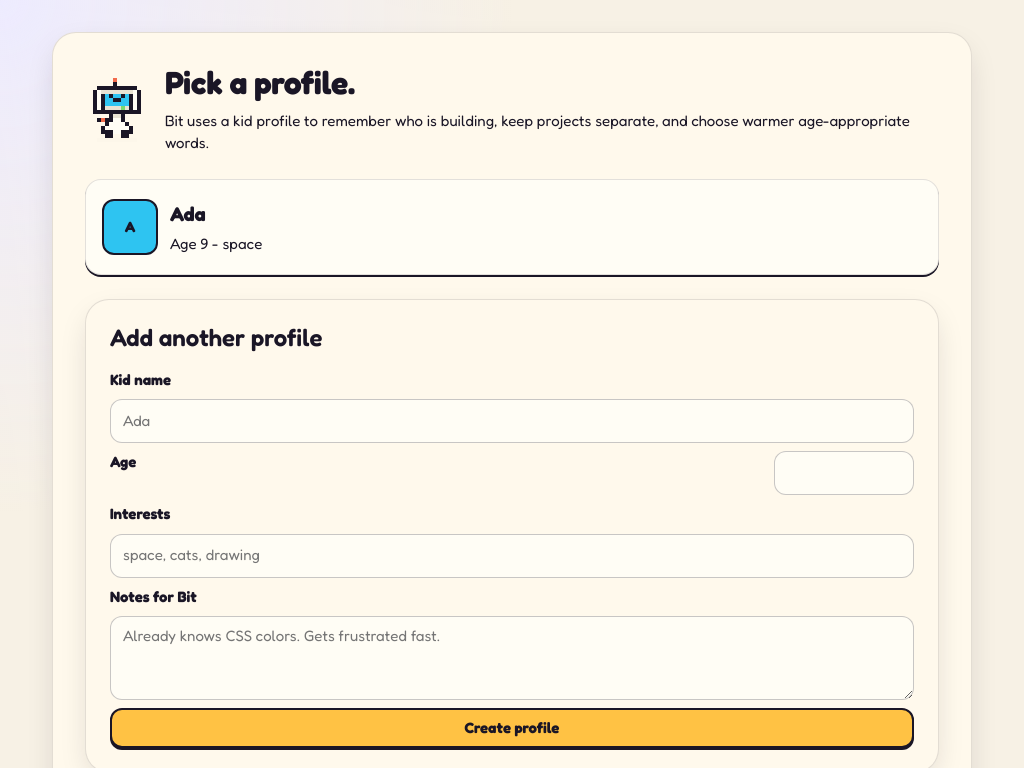
Test: App › opens chat after selecting a kid
Click the button "A Ada Age 9 - space" at (130, 227), box left=85, top=179, right=939, bottom=275
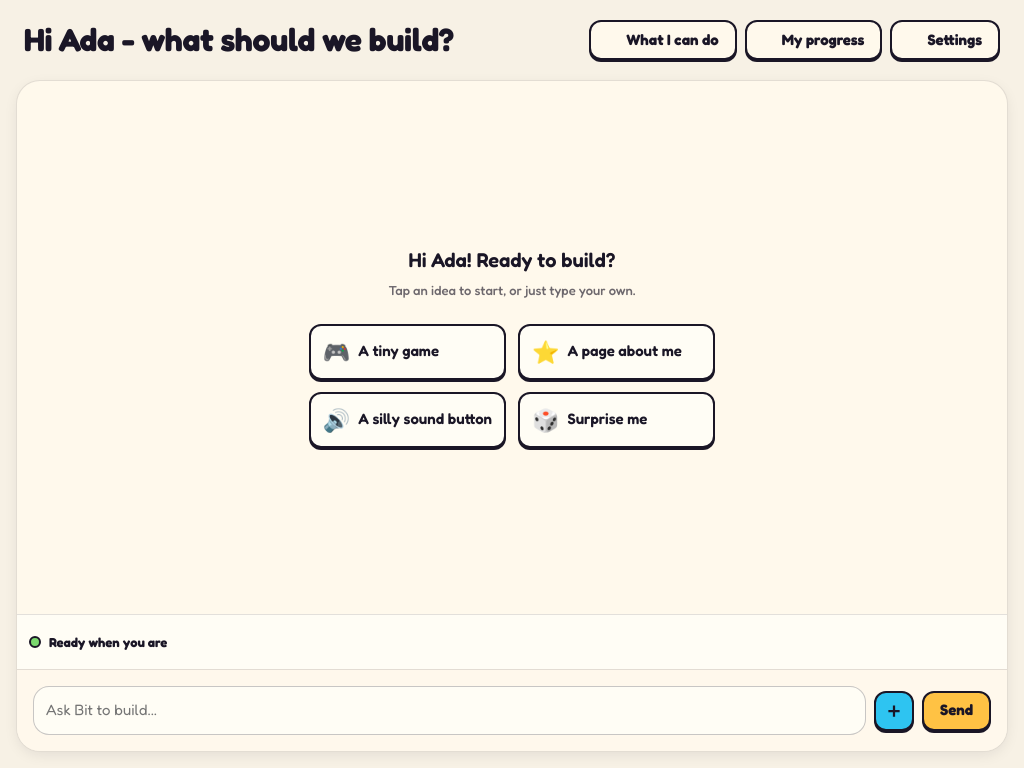
Check: the text "Hi Ada - what should we build?" is shown, box left=24, top=22, right=454, bottom=58
